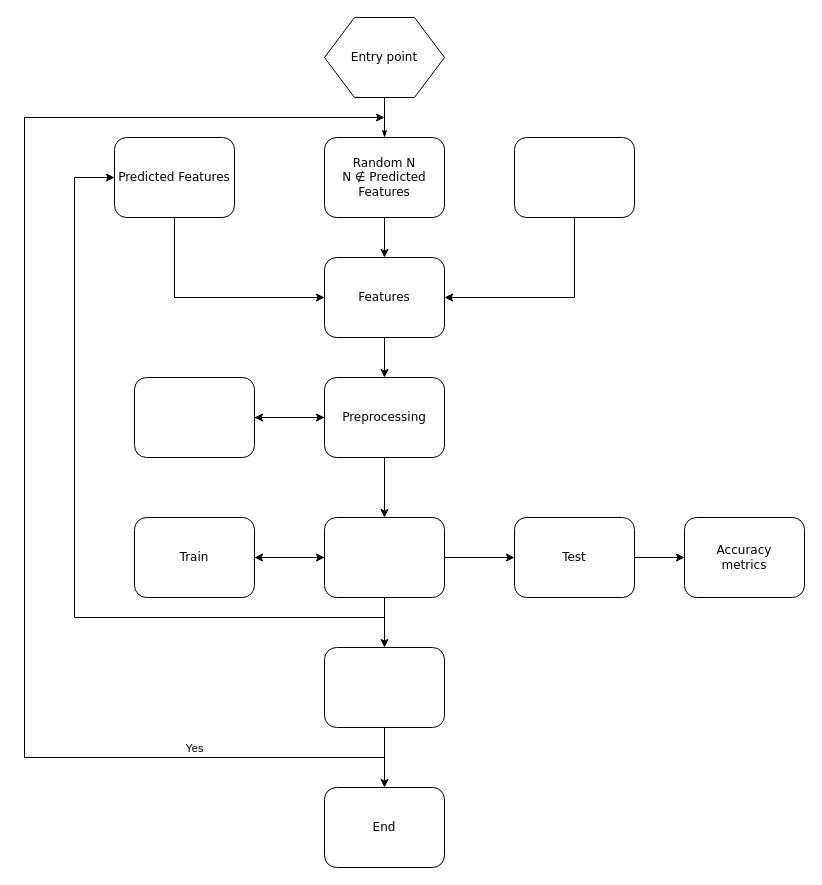
The diagram is 822 pixels wide and 885 high, and some of its shapes have lost their labels. The shapes that lost their labels are listed below. From the top down, each one's centre as x and y in pixels, then its label:
the point at 574,177: Cells Burnup
the point at 194,417: Columns Transormer
the point at 384,557: Model
the point at 384,687: Is there to predict variables?
